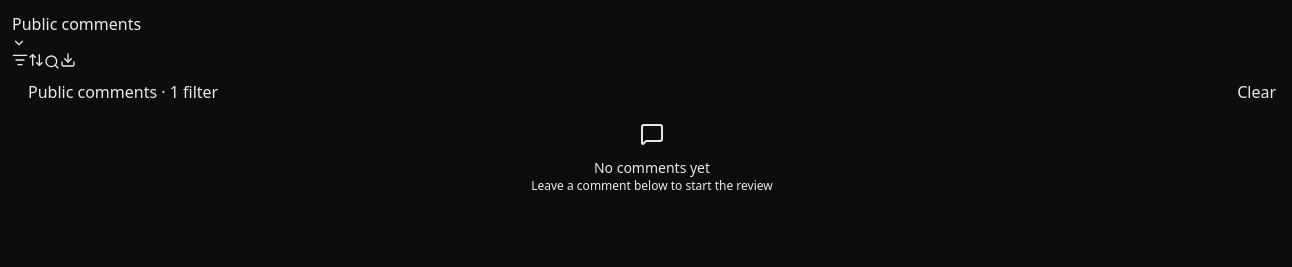
Test case: CommentPanel with a shared view on phones › shows what the list is narrowed to, because the toolbar that would say so is hidden
The image size is (1292, 267).
Click the button "Clear" at (1257, 92), box [1237,80,1276,104]
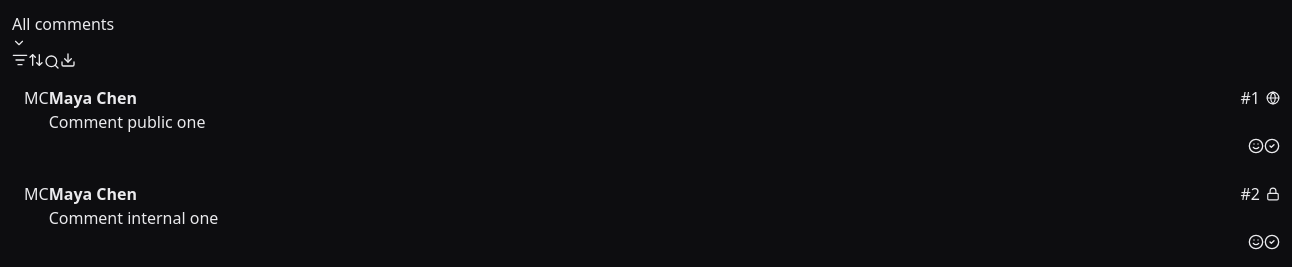
Now the button "Clear" is gone
